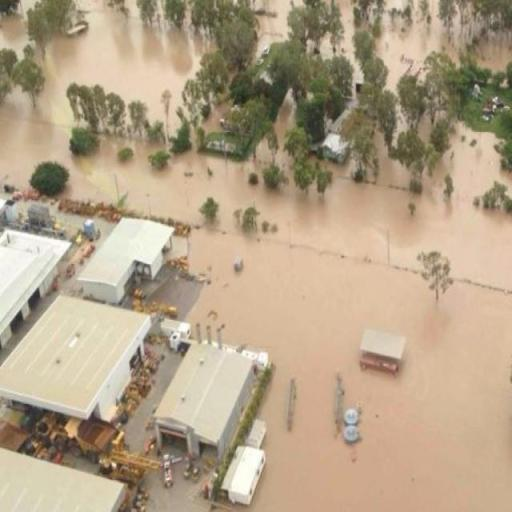flood: (0, 0, 512, 289), (188, 232, 512, 512), (376, 0, 461, 93), (337, 0, 364, 82), (254, 0, 292, 53), (0, 0, 35, 56), (478, 31, 512, 71), (396, 103, 409, 143), (419, 113, 432, 140), (322, 39, 334, 58), (294, 0, 303, 5)
house: (0, 294, 162, 428), (150, 334, 276, 470), (0, 223, 77, 353), (70, 212, 180, 302), (0, 447, 130, 512), (358, 326, 406, 380)
